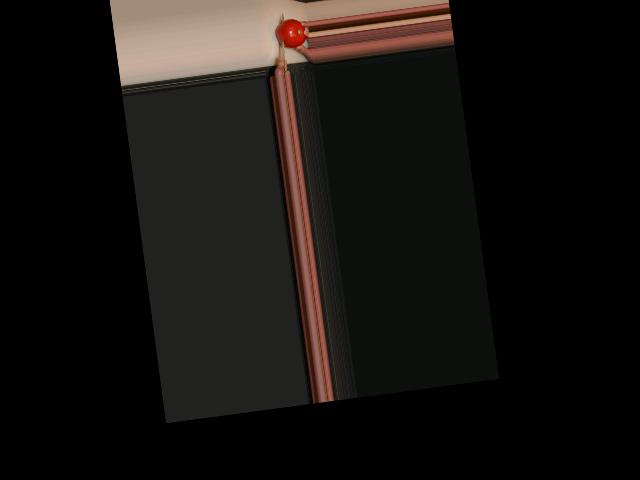tomato: (274, 17, 307, 49)
